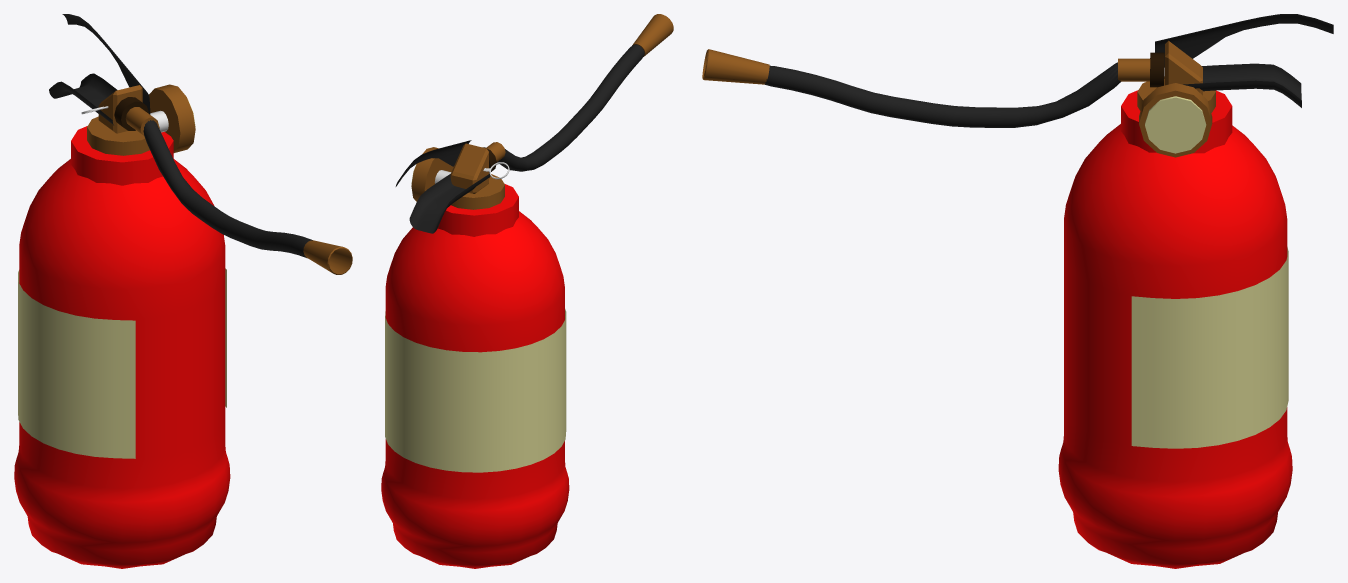
Rendered from extinguisherUse.FBX.
3 views of the same model, side by side, from view 1: azimuth 30°, elevation 25°; view 2: azimuth 150°, elevation 25°; view 3: azimuth 270°, elevation 25° (orthographic). The views are drawn at different scales.
Visible parts, largest first — view 1: Cylinder001, Cylinder010, Cylinder011, Cylinder002, Cylinder008, Cylinder004, Line001, Cylinder012, Box001, Line002, Cylinder005, Cylinder006; view 2: Cylinder001, Cylinder010, Cylinder011, Cylinder002, Line001, Box001, Cylinder004, Cylinder008, Cylinder012, Line002; view 3: Cylinder001, Cylinder010, Cylinder011, Cylinder009, Line001, Line002, Cylinder002, Cylinder012, Cylinder008, Box001, Cylinder006.
Part boxes in pixels (x1,y1,x2,y2): Cylinder001: (14, 159, 230, 568); Cylinder010: (18, 268, 226, 458); Cylinder011: (143, 120, 312, 258); Cylinder002: (71, 126, 173, 185); Cylinder008: (149, 84, 195, 152); Cylinder004: (87, 116, 159, 155); Line001: (49, 73, 117, 125); Cylinder012: (303, 240, 352, 274); Box001: (98, 85, 142, 133); Line002: (62, 14, 150, 114); Cylinder005: (114, 97, 148, 130); Cylinder006: (125, 107, 158, 135); Cylinder001: (381, 211, 569, 568); Cylinder010: (385, 309, 566, 472); Cylinder011: (497, 44, 644, 171); Cylinder002: (437, 184, 518, 236); Line001: (409, 174, 490, 233); Box001: (450, 143, 488, 193); Cylinder004: (451, 173, 504, 209); Cylinder008: (411, 147, 453, 201); Cylinder012: (632, 14, 673, 56); Line002: (395, 140, 471, 186); Cylinder001: (1058, 124, 1292, 568); Cylinder010: (1131, 247, 1288, 448); Cylinder011: (764, 62, 1120, 127); Cylinder009: (1145, 96, 1206, 153); Line001: (1183, 63, 1301, 107); Line002: (1155, 14, 1333, 67); Cylinder002: (1121, 90, 1232, 153); Cylinder012: (702, 49, 769, 84); Cylinder008: (1139, 83, 1212, 157); Box001: (1165, 40, 1202, 95); Cylinder006: (1118, 58, 1150, 81).
Bounding box in the file's own units: 66.63 × 164 × 180.
